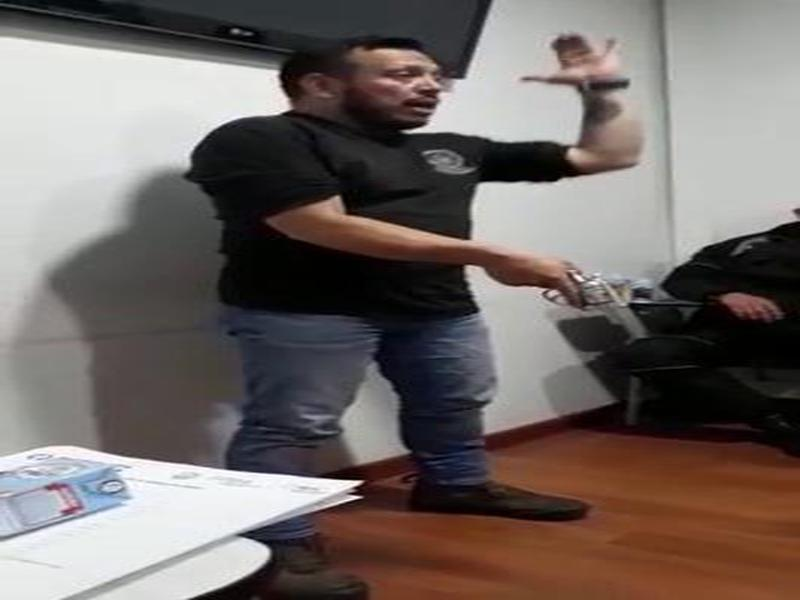Revolver: (534, 246, 658, 364)
